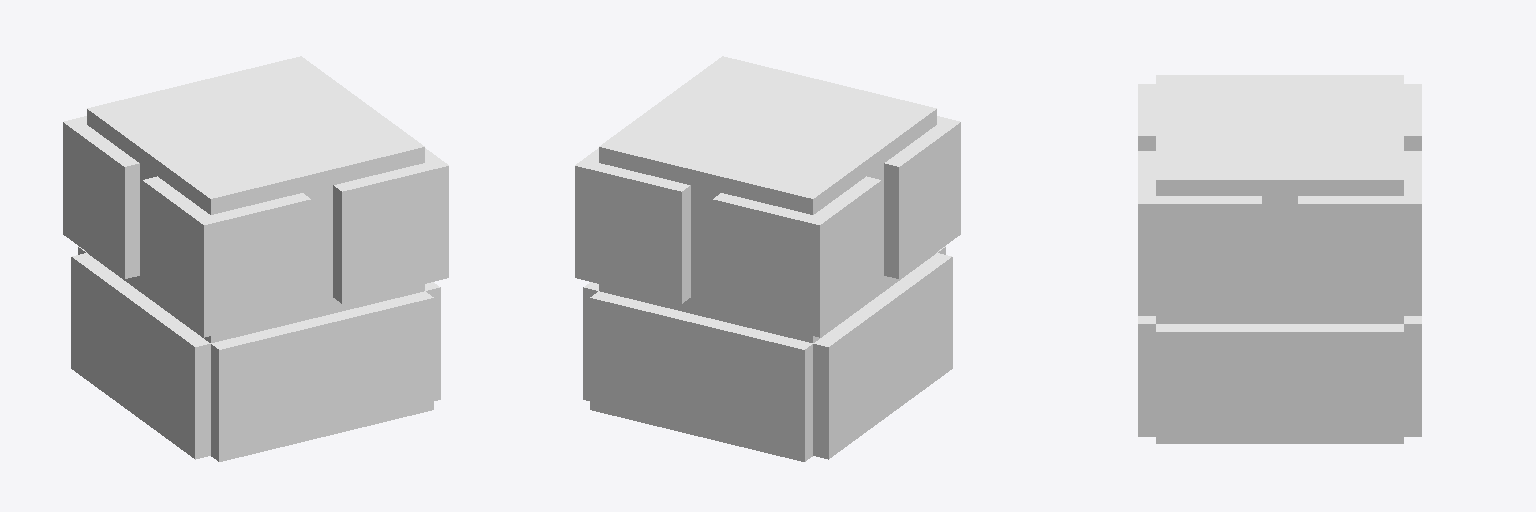
File: Dungeon-6-Wall-4sides.obj
The picture shows the model from 3 angles: view 1: azimuth 30°, elevation 25°; view 2: azimuth 150°, elevation 25°; view 3: azimuth 270°, elevation 25°; orthographic projection.
Visible parts, largest first — view 1: Wall-4sides; view 2: Wall-4sides; view 3: Wall-4sides.
Boxes of the visible parts, x1,y1,x2,y2 form: Wall-4sides: [63, 56, 448, 461]; Wall-4sides: [575, 56, 960, 461]; Wall-4sides: [1138, 75, 1421, 443].
Size of the model in its own units: 1.6 by 1.6 by 1.6.